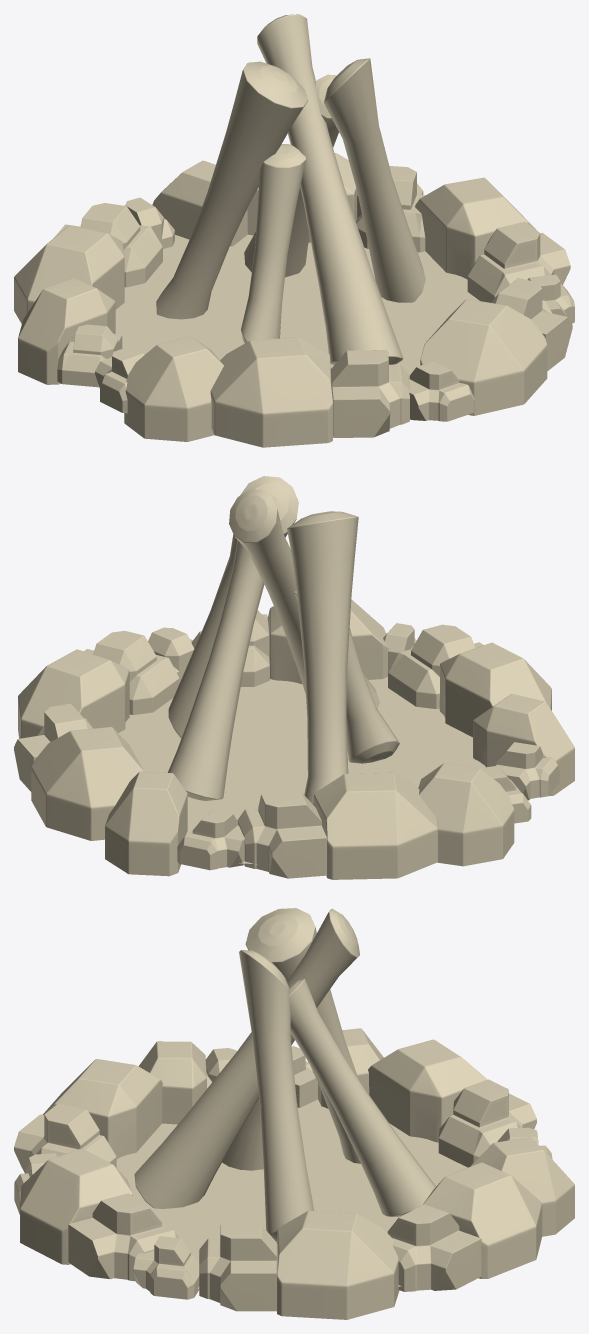
File: FDC (1).fbx
The picture shows the model from 3 angles, top to bottom: view 1: azimuth 30°, elevation 25°; view 2: azimuth 150°, elevation 25°; view 3: azimuth 270°, elevation 25°; orthographic projection.
Visible parts, largest first — view 1: FDC; view 2: FDC; view 3: FDC.
Boxes of the visible parts, x1=… form: FDC: x1=14, y1=14, x2=574, y2=447; FDC: x1=14, y1=476, x2=574, y2=879; FDC: x1=14, y1=908, x2=574, y2=1319.
Bounding box in the file's own units: 145 × 85.53 × 142.
